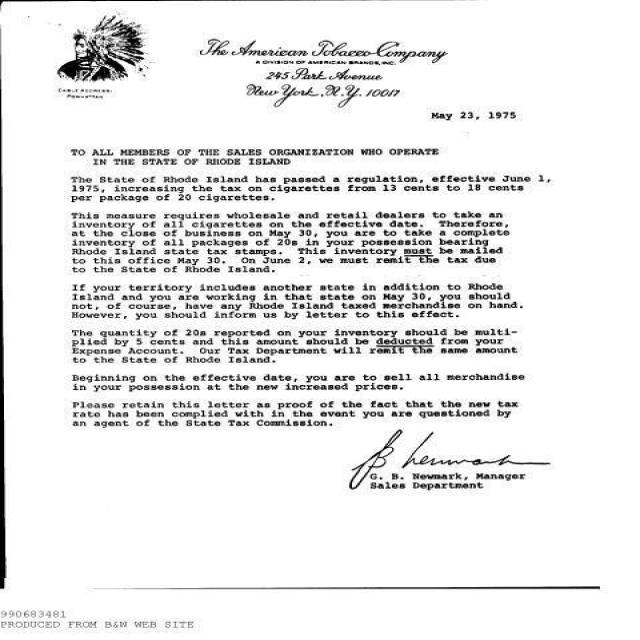signature: (347, 427, 548, 488)
